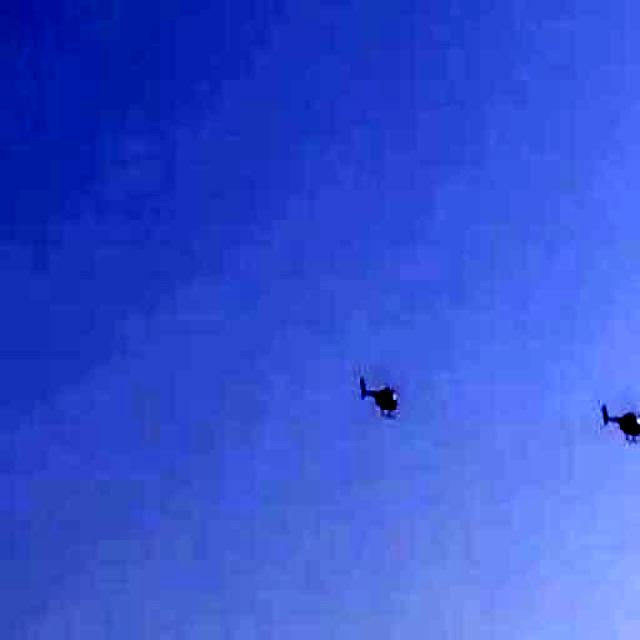drone: (344, 350, 420, 434), (582, 389, 640, 455)
